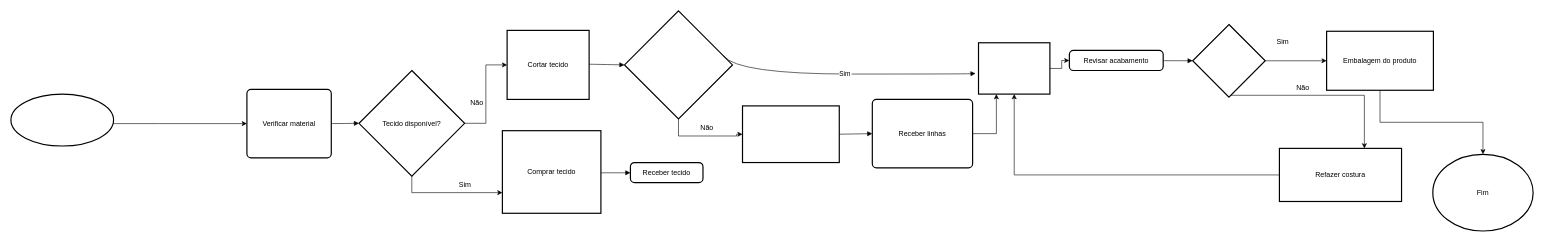
Image size: 1543x241. Some labels were removed from this diagram. Each missing label, with the centre of its shape:
"Aprovado?" belongs at pixel 1229 60.
"Comprar linhas" belongs at pixel 791 134.
"Costurar tecido" belongs at pixel 1014 68.
"Início" belongs at pixel 62 119.
"Linhas disponíveis?" belongs at pixel 678 64.
